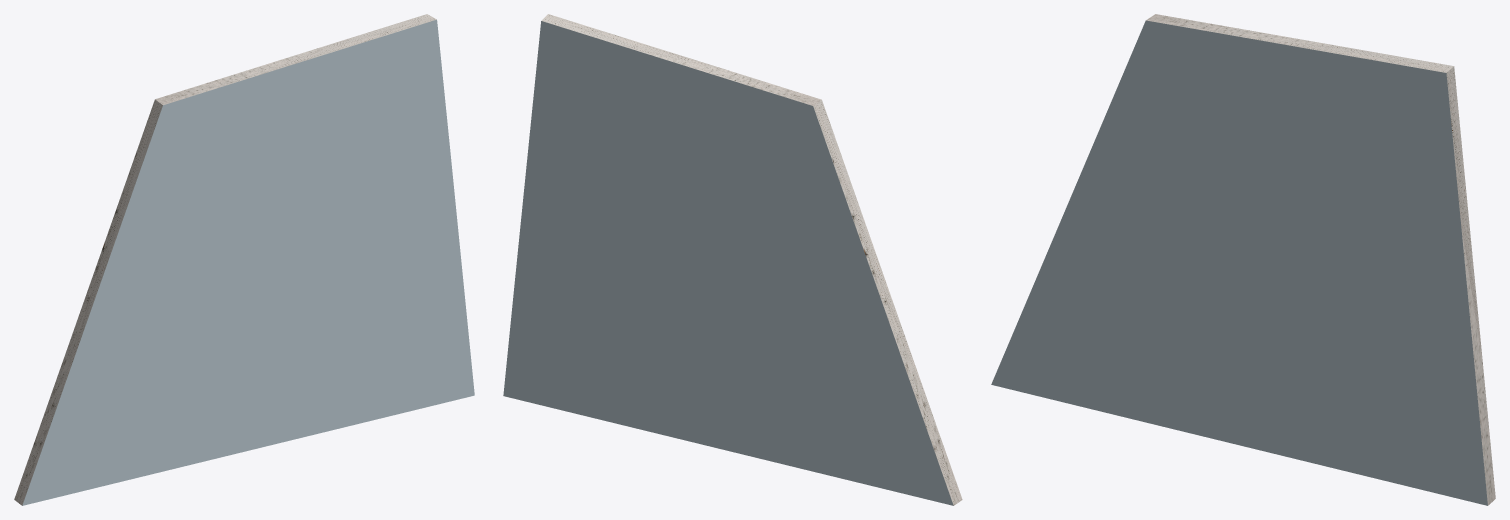
The model's file is glass5.glb.
3 views of the same model, side by side, from view 1: azimuth 30°, elevation 25°; view 2: azimuth 150°, elevation 25°; view 3: azimuth 330°, elevation 25° (orthographic). The views are drawn at different scales.
Parts seen in each view (by area): view 1: broken_window_cell.003; view 2: broken_window_cell.003; view 3: broken_window_cell.003.
Part boxes in pixels (x1,y1,x2,y2): broken_window_cell.003: (14, 14, 474, 505); broken_window_cell.003: (503, 14, 962, 505); broken_window_cell.003: (991, 14, 1495, 505).
Bounding box in the file's own units: 1.45 × 1.18 × 0.0471.
Materials: 2 (1 with a texture image).
